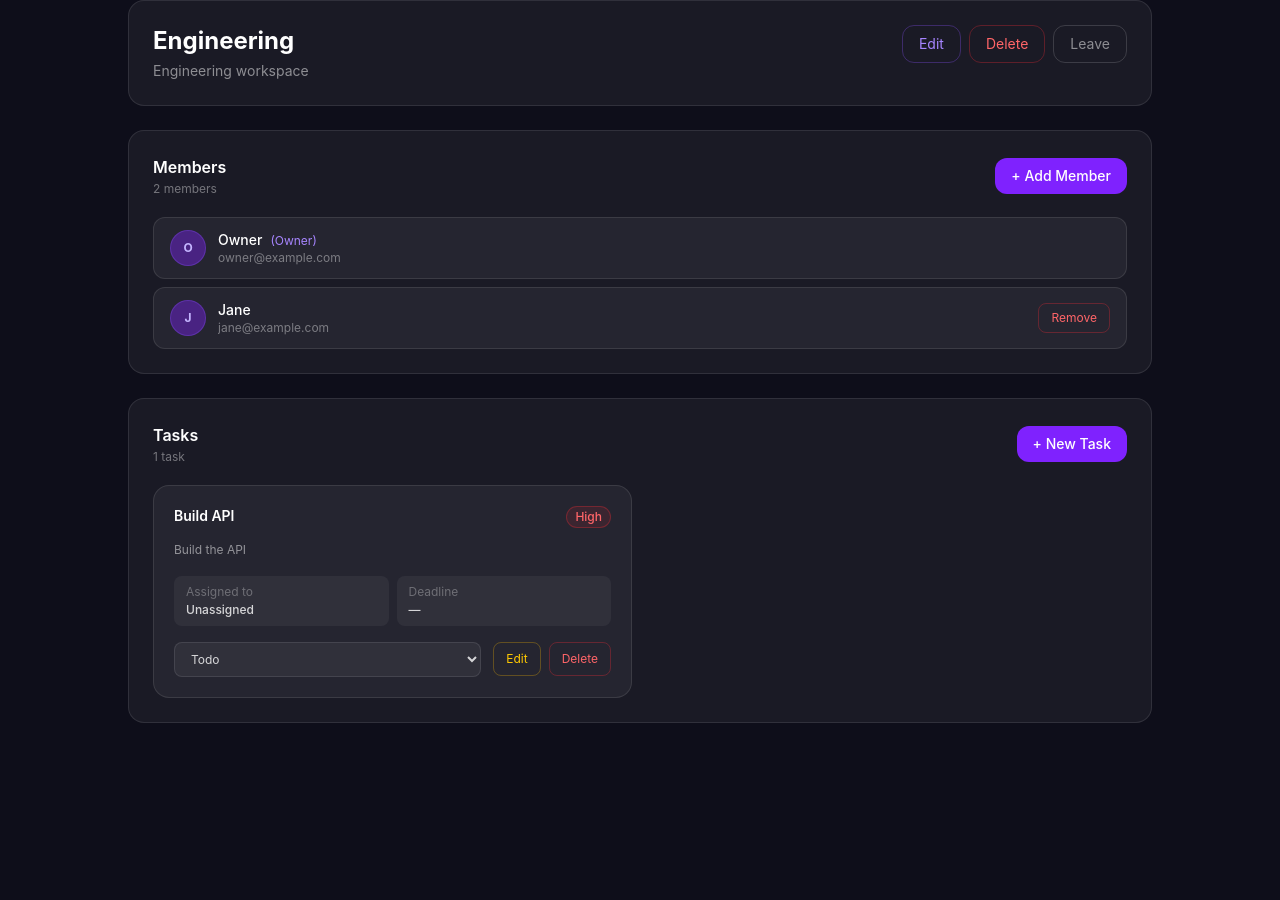
it: WorkspaceDetails › shows an error when adding a member fails
Expected: the heading "Engineering" is shown, [153, 25, 309, 57]
Click the button "+ Add Member" at coordinates (1061, 176), box [995, 158, 1127, 194]
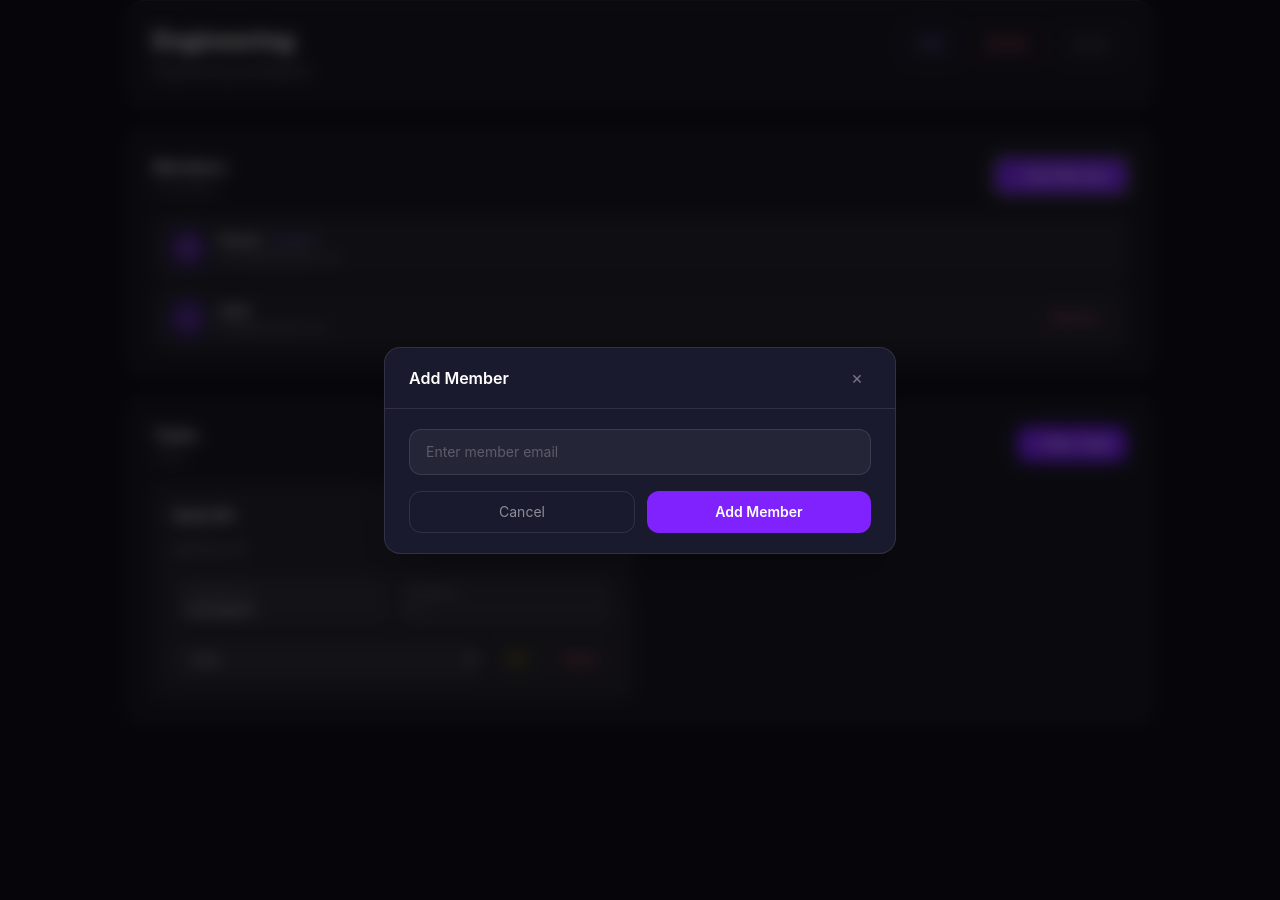
Type "missing@example.com" into the field with placeholder "Enter member email" at coordinates (640, 452), box [409, 428, 871, 474]
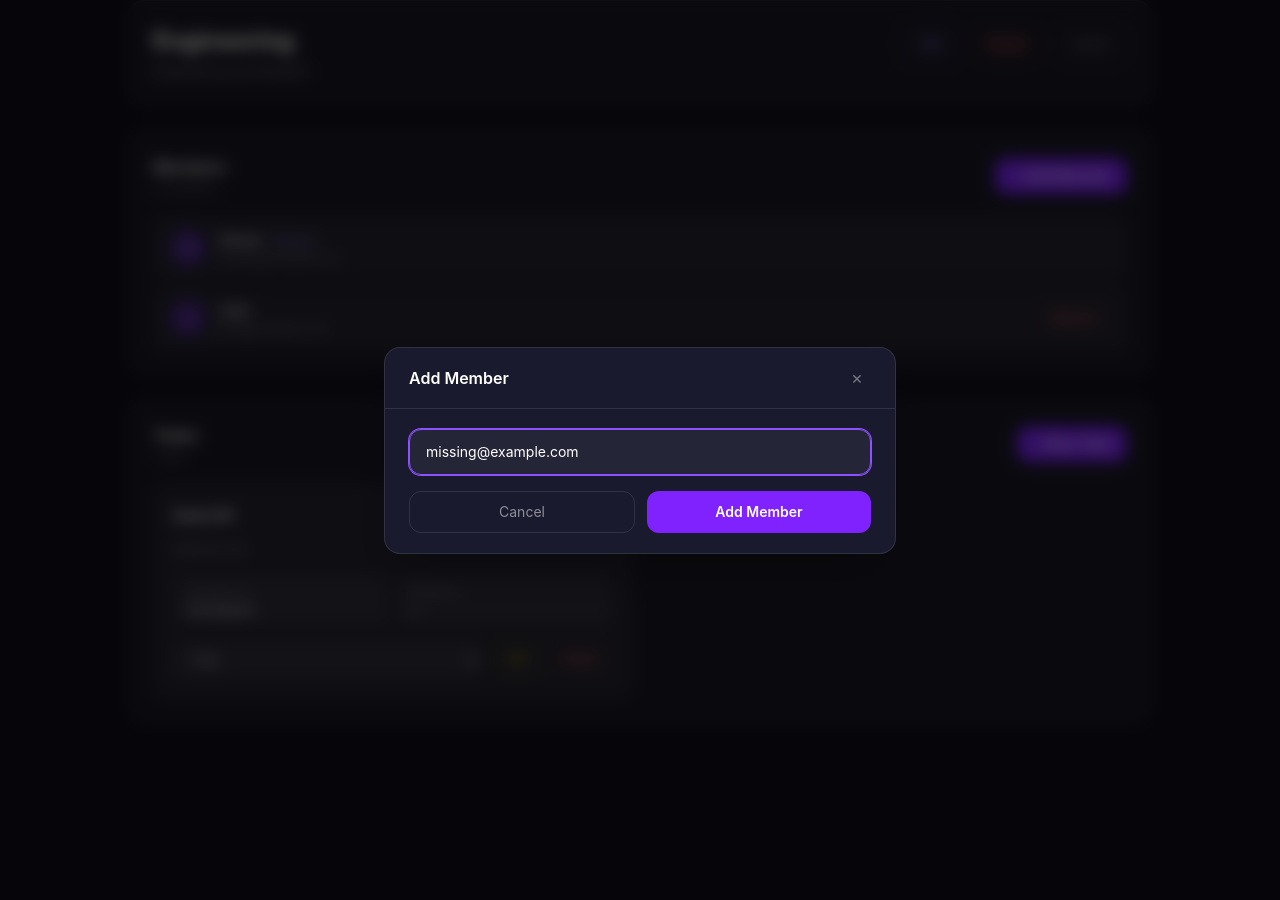
Click the button "Add Member" at coordinates (759, 512), box [647, 490, 871, 532]
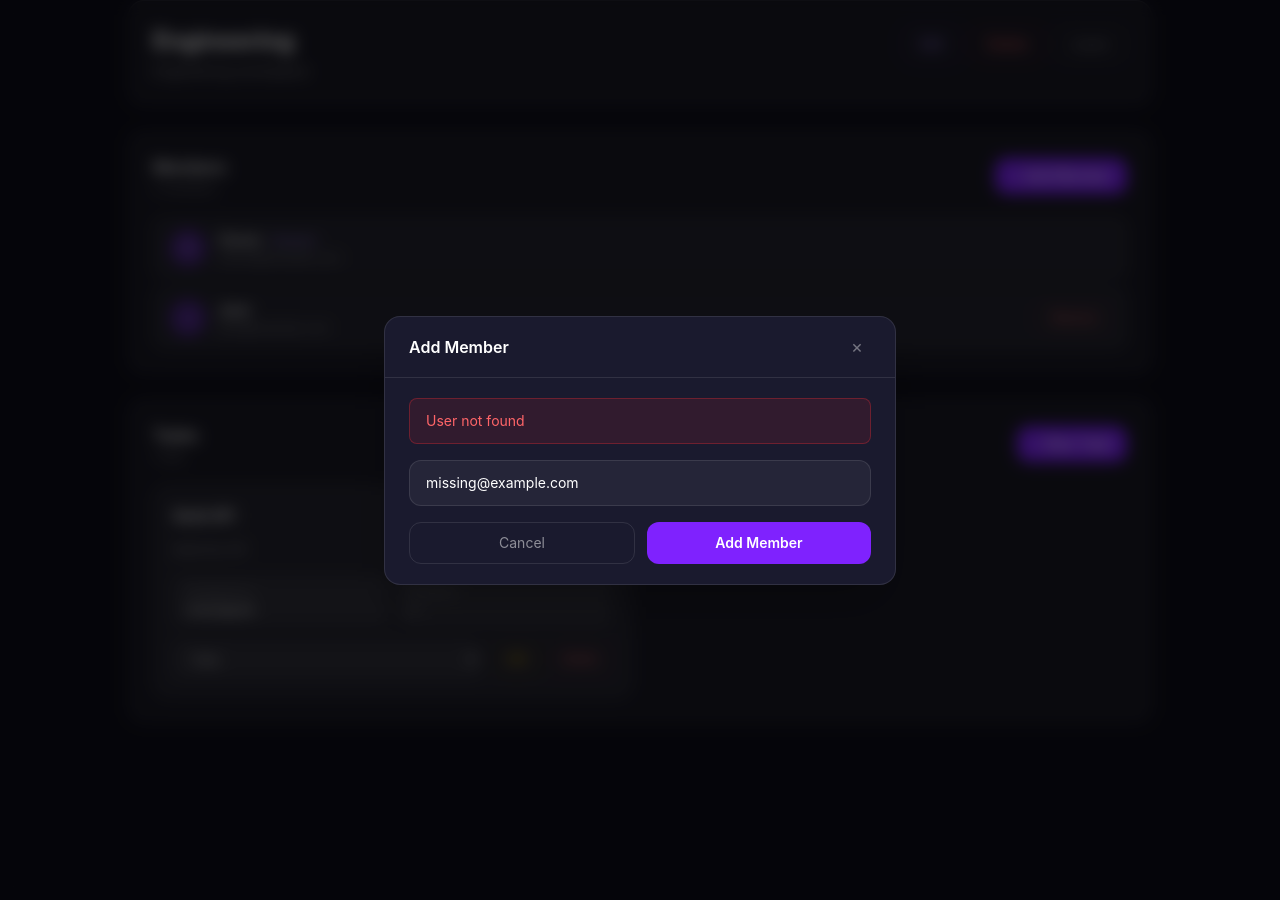
Now the text "User not found" is shown, box [409, 398, 871, 444]
